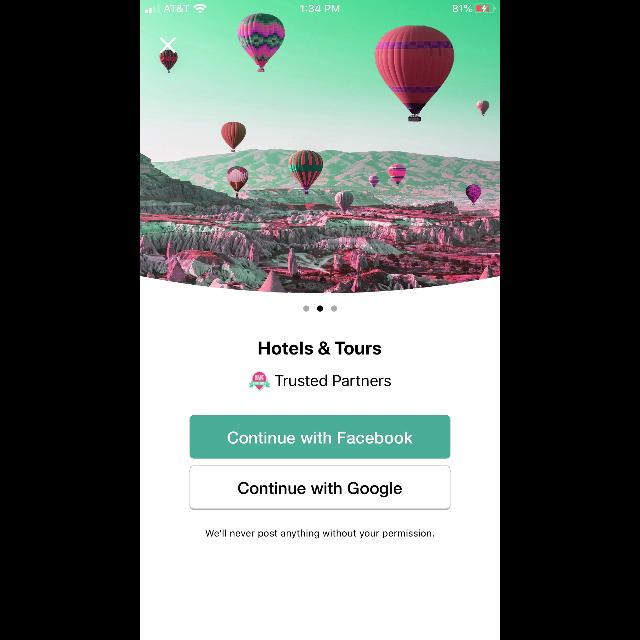icon: (160, 38, 176, 52)
image: (140, 0, 500, 294), (250, 372, 270, 392)
pageindicator: (303, 306, 337, 312)
text: (206, 530, 434, 538), (259, 342, 381, 354), (275, 375, 391, 387)
textbutton: (190, 466, 450, 510), (190, 416, 450, 458)
uppertaskbar: (140, 0, 500, 14)
